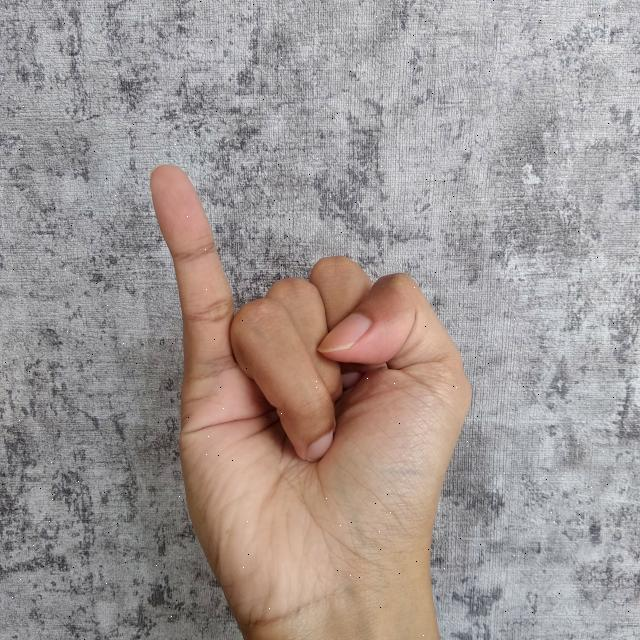I: (140, 152, 472, 640)
